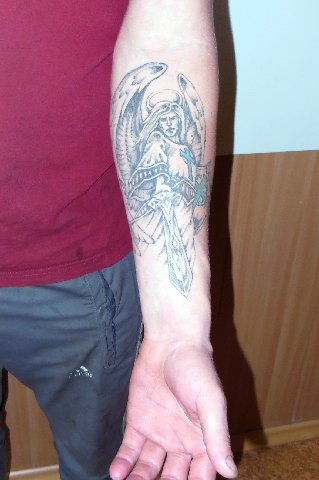tatu1_angel: (108, 56, 229, 297)
